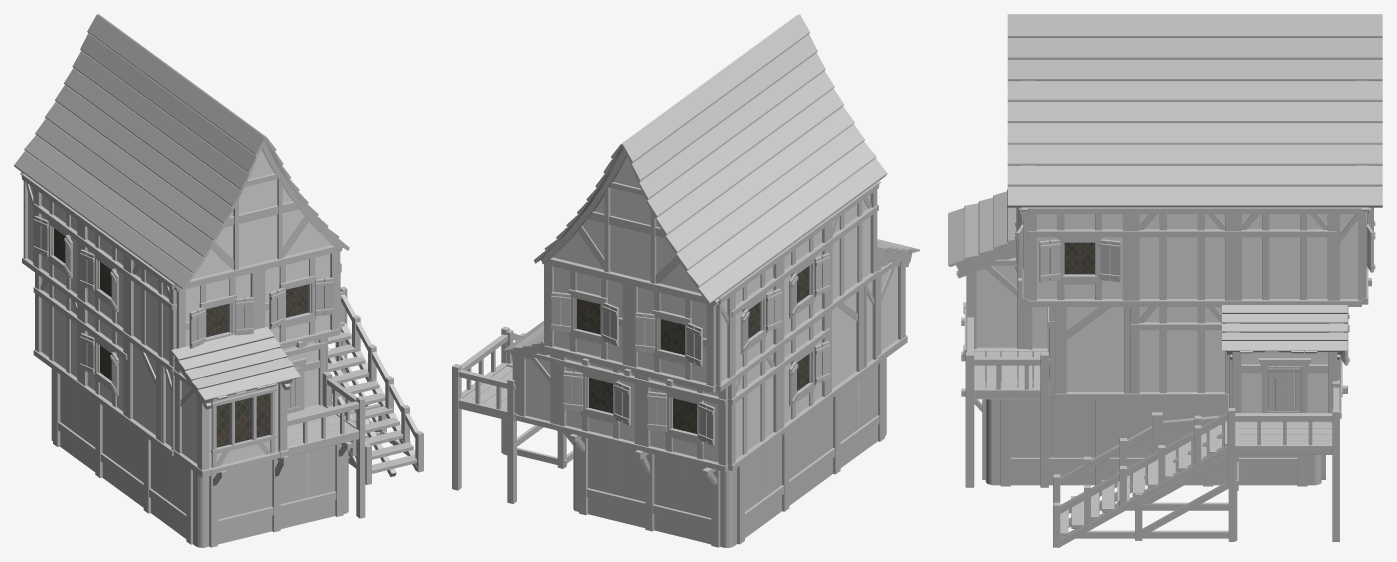
Rendered from House_1A18.fbx.
3 renders of one model, left to right at view 1: azimuth 30°, elevation 25°; view 2: azimuth 150°, elevation 25°; view 3: azimuth 270°, elevation 25°, orthographic. The views are drawn at different scales.
Parts seen in each view (by area): view 1: House_1A18, Plane.177, Plane.178, Plane.179; view 2: House_1A18, Plane.220, Plane.219, Plane.221, Plane.222; view 3: House_1A18, Cube.2353, Plane.355.
Part boxes in pixels (x1=…): House_1A18: x1=14, y1=14, x2=423, y2=547; Plane.177: x1=216, y1=393, x2=269, y2=447; Plane.178: x1=206, y1=304, x2=228, y2=337; Plane.179: x1=286, y1=284, x2=308, y2=317; House_1A18: x1=452, y1=14, x2=919, y2=547; Plane.220: x1=576, y1=298, x2=600, y2=334; Plane.219: x1=660, y1=319, x2=684, y2=354; Plane.221: x1=673, y1=398, x2=696, y2=433; Plane.222: x1=589, y1=377, x2=612, y2=413; House_1A18: x1=948, y1=14, x2=1382, y2=547; Cube.2353: x1=1267, y1=366, x2=1302, y2=412; Plane.355: x1=1064, y1=242, x2=1094, y2=274.
Bounding box in the file's own units: 1359 × 1879 × 1693.
